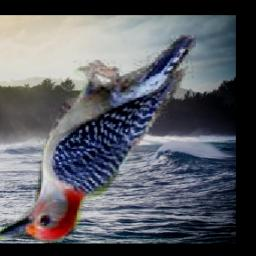Woodpecker: (0, 35, 195, 242)
